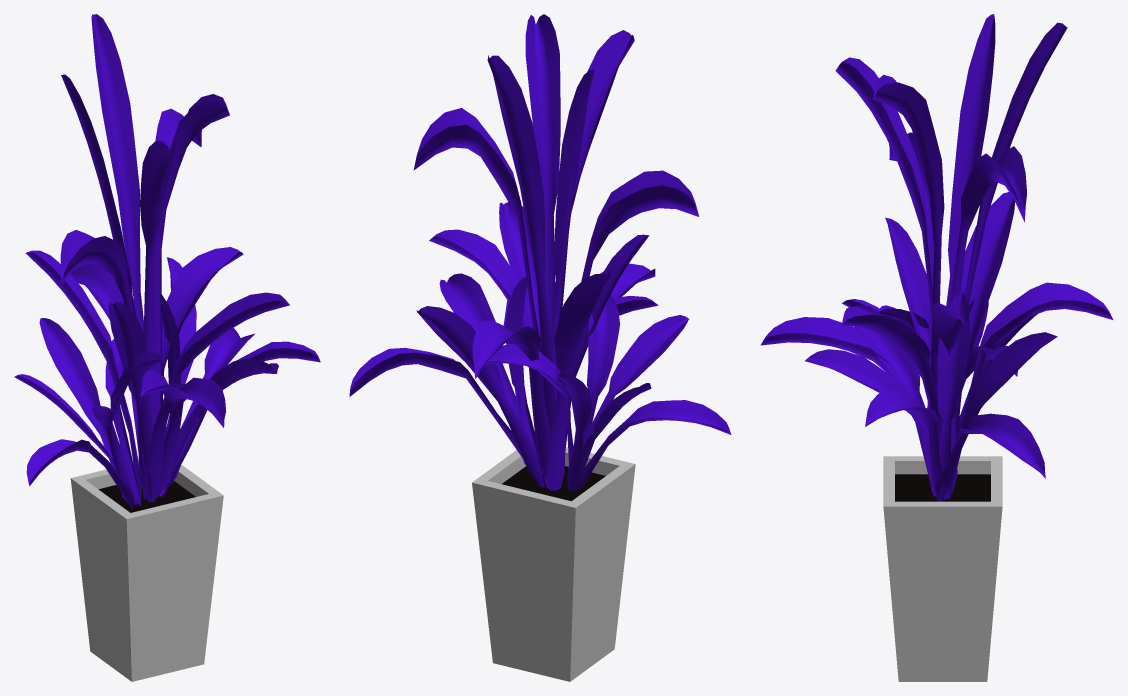
Rendered from plant3.obj.
The picture shows the model from 3 angles, left to right: view 1: azimuth 30°, elevation 25°; view 2: azimuth 150°, elevation 25°; view 3: azimuth 270°, elevation 25°; orthographic projection. The views are drawn at different scales.
Visible parts, largest first — view 1: Leaf3_Plane.002; view 2: Leaf3_Plane.002; view 3: Leaf3_Plane.002.
Part boxes in pixels (x1,y1,x2,y2): Leaf3_Plane.002: (14,14,320,681); Leaf3_Plane.002: (349,14,731,681); Leaf3_Plane.002: (760,14,1113,681).
Size of the model in its own units: 3.14 by 6.3 by 3.15.
